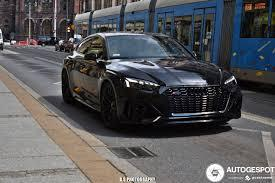Normal Automobiles: (75, 0, 274, 84), (62, 33, 241, 126), (0, 29, 3, 49)
